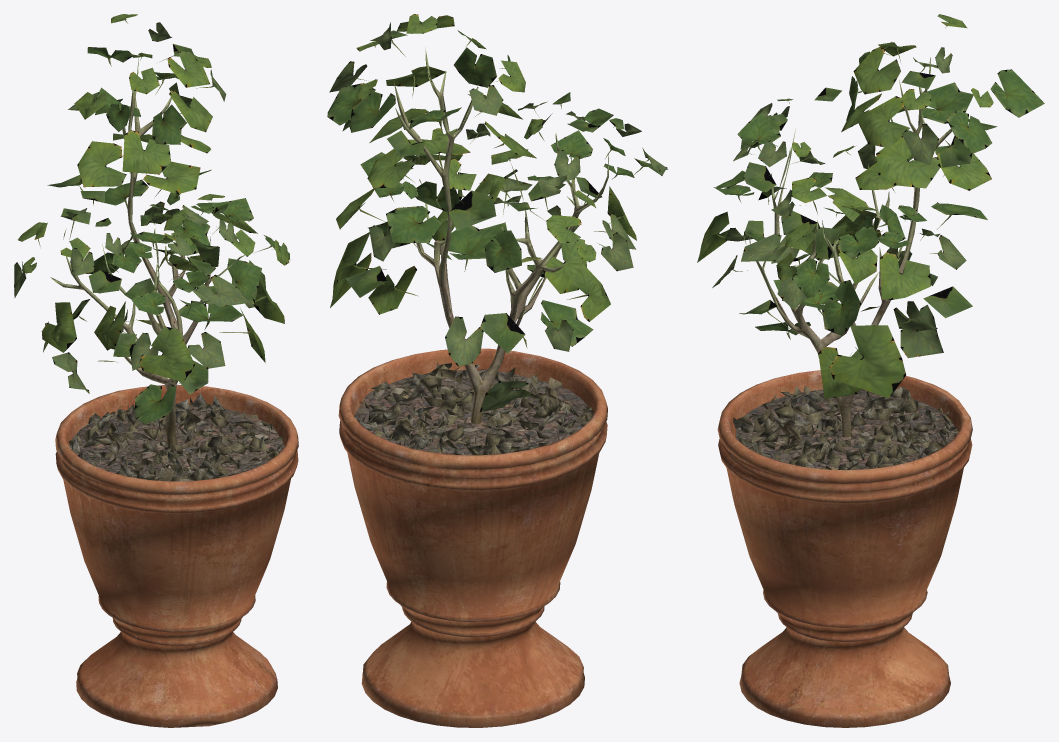
File: potted_plant_01.gltf
The picture shows the model from 3 angles, left to right: view 1: azimuth 30°, elevation 25°; view 2: azimuth 150°, elevation 25°; view 3: azimuth 270°, elevation 25°; orthographic projection. The views are drawn at different scales.
Visible parts, largest first — view 1: potted_plant_01_pot, potted_plant_01_leaves, potted_plant_01_pebbles, potted_plant_01_stem; view 2: potted_plant_01_pot, potted_plant_01_leaves, potted_plant_01_pebbles, potted_plant_01_stem; view 3: potted_plant_01_pot, potted_plant_01_leaves, potted_plant_01_pebbles, potted_plant_01_stem.
Boxes of the visible parts, x1=… form: potted_plant_01_pot: x1=55, y1=385, x2=298, y2=727; potted_plant_01_leaves: x1=14, y1=14, x2=290, y2=423; potted_plant_01_pebbles: x1=69, y1=393, x2=284, y2=481; potted_plant_01_stem: x1=50, y1=55, x2=244, y2=451; potted_plant_01_pot: x1=338, y1=348, x2=607, y2=727; potted_plant_01_leaves: x1=327, y1=14, x2=667, y2=411; potted_plant_01_pebbles: x1=354, y1=362, x2=593, y2=455; potted_plant_01_stem: x1=393, y1=47, x2=608, y2=423; potted_plant_01_pot: x1=717, y1=370, x2=972, y2=727; potted_plant_01_leaves: x1=697, y1=14, x2=1044, y2=398; potted_plant_01_pebbles: x1=733, y1=385, x2=958, y2=469; potted_plant_01_stem: x1=749, y1=57, x2=963, y2=437.
Bounding box in the file's own units: 0.5775 × 1.34 × 0.6336.
Materials: 2 (2 with a texture image).
